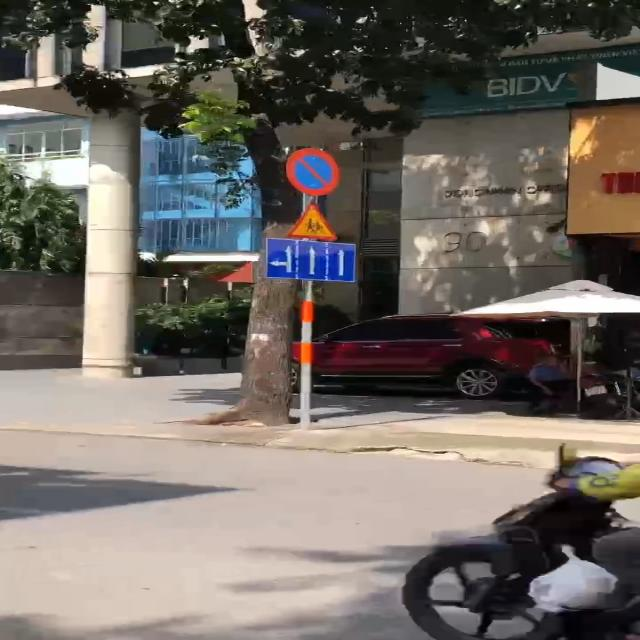Bien bao tre em: (284, 199, 345, 242)
